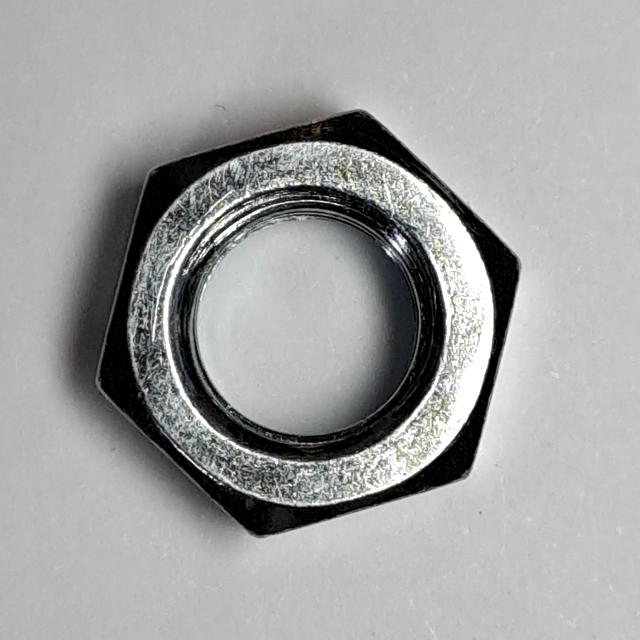Excellent: (83, 94, 534, 548)
